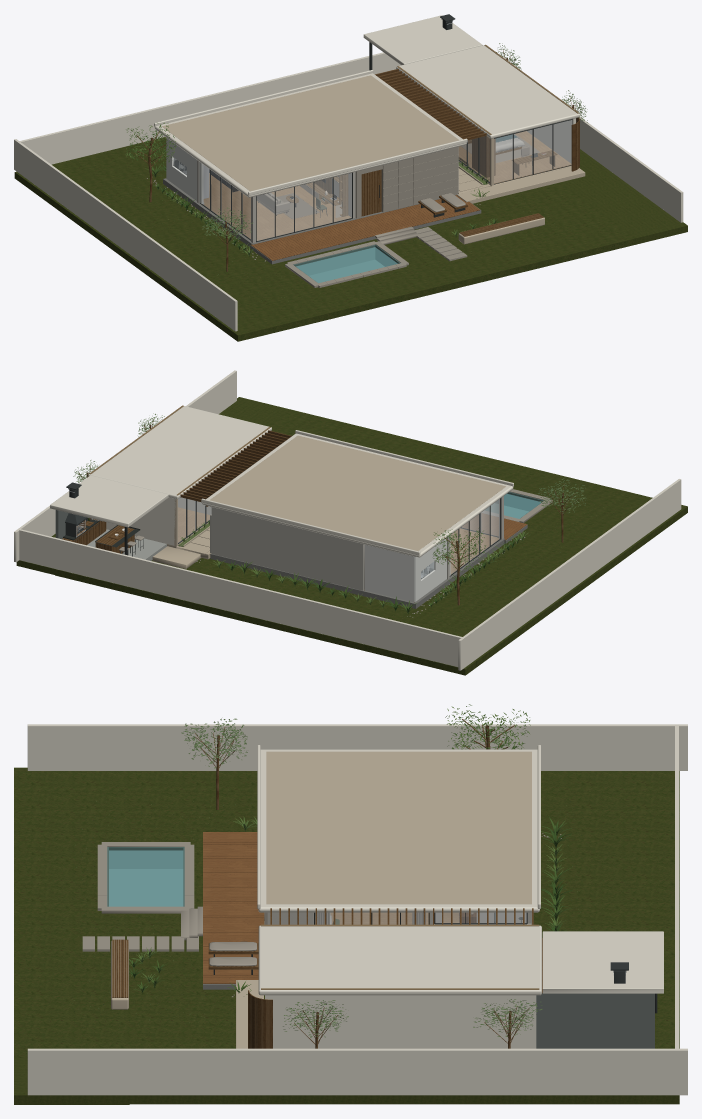
The model's file is casa-horizonte.glb.
The picture shows the model from 3 angles, top to bottom: view 1: azimuth 30°, elevation 25°; view 2: azimuth 150°, elevation 25°; view 3: azimuth 270°, elevation 25°; orthographic projection. The views are drawn at different scales.
Parts seen in each view (by area): view 1: Solo gramado contínuo, Horizonte muro fundos, Horizonte impermeabilização, Horizonte cobertura principal, Bandeira banheiro • vidro, Horizonte jardim extensão, Pavilhão fachada jardim vidro, Fachada entrada trecho direito, Régua deck, Piso ala íntima, Horizonte banco jardim, Borda piscina lateral (+19 smaller); view 2: Solo gramado contínuo, Horizonte muro fundos, Horizonte impermeabilização, Horizonte cobertura principal, Cinta lateral cozinha, Horizonte jardim extensão, Ombreira junto ao microondas, Horizonte acabamento lateral, Laje de piso, Pavilhão parede leste, Bandeira banheiro • vidro, G2_bandeja borda (+16 smaller); view 3: Solo gramado contínuo, Horizonte muro fundos, Horizonte impermeabilização, Horizonte cobertura principal, Pavilhão parede leste, Horizonte jardim extensão, Régua deck, Gourmet • parede churrasqueira, Piscina fundo, Água, Borda piscina lateral, Jardim folhas individuais.001 (+14 smaller).
Part boxes in pixels (x1=…): Solo gramado contínuo: x1=25, y1=146, x2=637, y2=341; Horizonte muro fundos: x1=14, y1=52, x2=683, y2=331; Horizonte impermeabilização: x1=162, y1=75, x2=458, y2=191; Horizonte cobertura principal: x1=154, y1=15, x2=580, y2=197; Bandeira banheiro • vidro: x1=202, y1=164, x2=351, y2=240; Horizonte jardim extensão: x1=14, y1=137, x2=687, y2=244; Pavilhão fachada jardim vidro: x1=459, y1=120, x2=571, y2=183; Fachada entrada trecho direito: x1=355, y1=147, x2=458, y2=218; Régua deck: x1=251, y1=195, x2=479, y2=260; Piso ala íntima: x1=203, y1=173, x2=351, y2=240; Horizonte banco jardim: x1=457, y1=166, x2=585, y2=244; Borda piscina lateral: x1=146, y1=164, x2=486, y2=287; Solo gramado contínuo: x1=151, y1=409, x2=687, y2=667; Horizonte muro fundos: x1=14, y1=370, x2=681, y2=670; Horizonte impermeabilização: x1=210, y1=435, x2=505, y2=550; Horizonte cobertura principal: x1=50, y1=406, x2=513, y2=557; Cinta lateral cozinha: x1=210, y1=496, x2=503, y2=590; Horizonte jardim extensão: x1=16, y1=397, x2=476, y2=675; Ombreira junto ao microondas: x1=365, y1=535, x2=450, y2=602; Horizonte acabamento lateral: x1=180, y1=430, x2=291, y2=506; Laje de piso: x1=210, y1=528, x2=504, y2=608; Pavilhão parede leste: x1=106, y1=497, x2=211, y2=545; Bandeira banheiro • vidro: x1=451, y1=499, x2=499, y2=574; G2_bandeja borda: x1=62, y1=519, x2=134, y2=553; Solo gramado contínuo: x1=14, y1=767, x2=646, y2=1058; Horizonte muro fundos: x1=27, y1=724, x2=687, y2=1095; Horizonte impermeabilização: x1=266, y1=751, x2=531, y2=904; Horizonte cobertura principal: x1=257, y1=745, x2=663, y2=995; Pavilhão parede leste: x1=265, y1=995, x2=536, y2=1048; Horizonte jardim extensão: x1=14, y1=771, x2=679, y2=1104; Régua deck: x1=203, y1=832, x2=264, y2=983; Gourmet • parede churrasqueira: x1=536, y1=993, x2=654, y2=1048; Piscina fundo: x1=107, y1=847, x2=184, y2=906; Água: x1=109, y1=850, x2=183, y2=906; Borda piscina lateral: x1=82, y1=833, x2=561, y2=997; Jardim folhas individuais.001: x1=181, y1=718, x2=542, y2=1037.
Size of the model in its own units: 28.18 by 5.29 by 24.5.
Materials: 102 (29 with a texture image).
